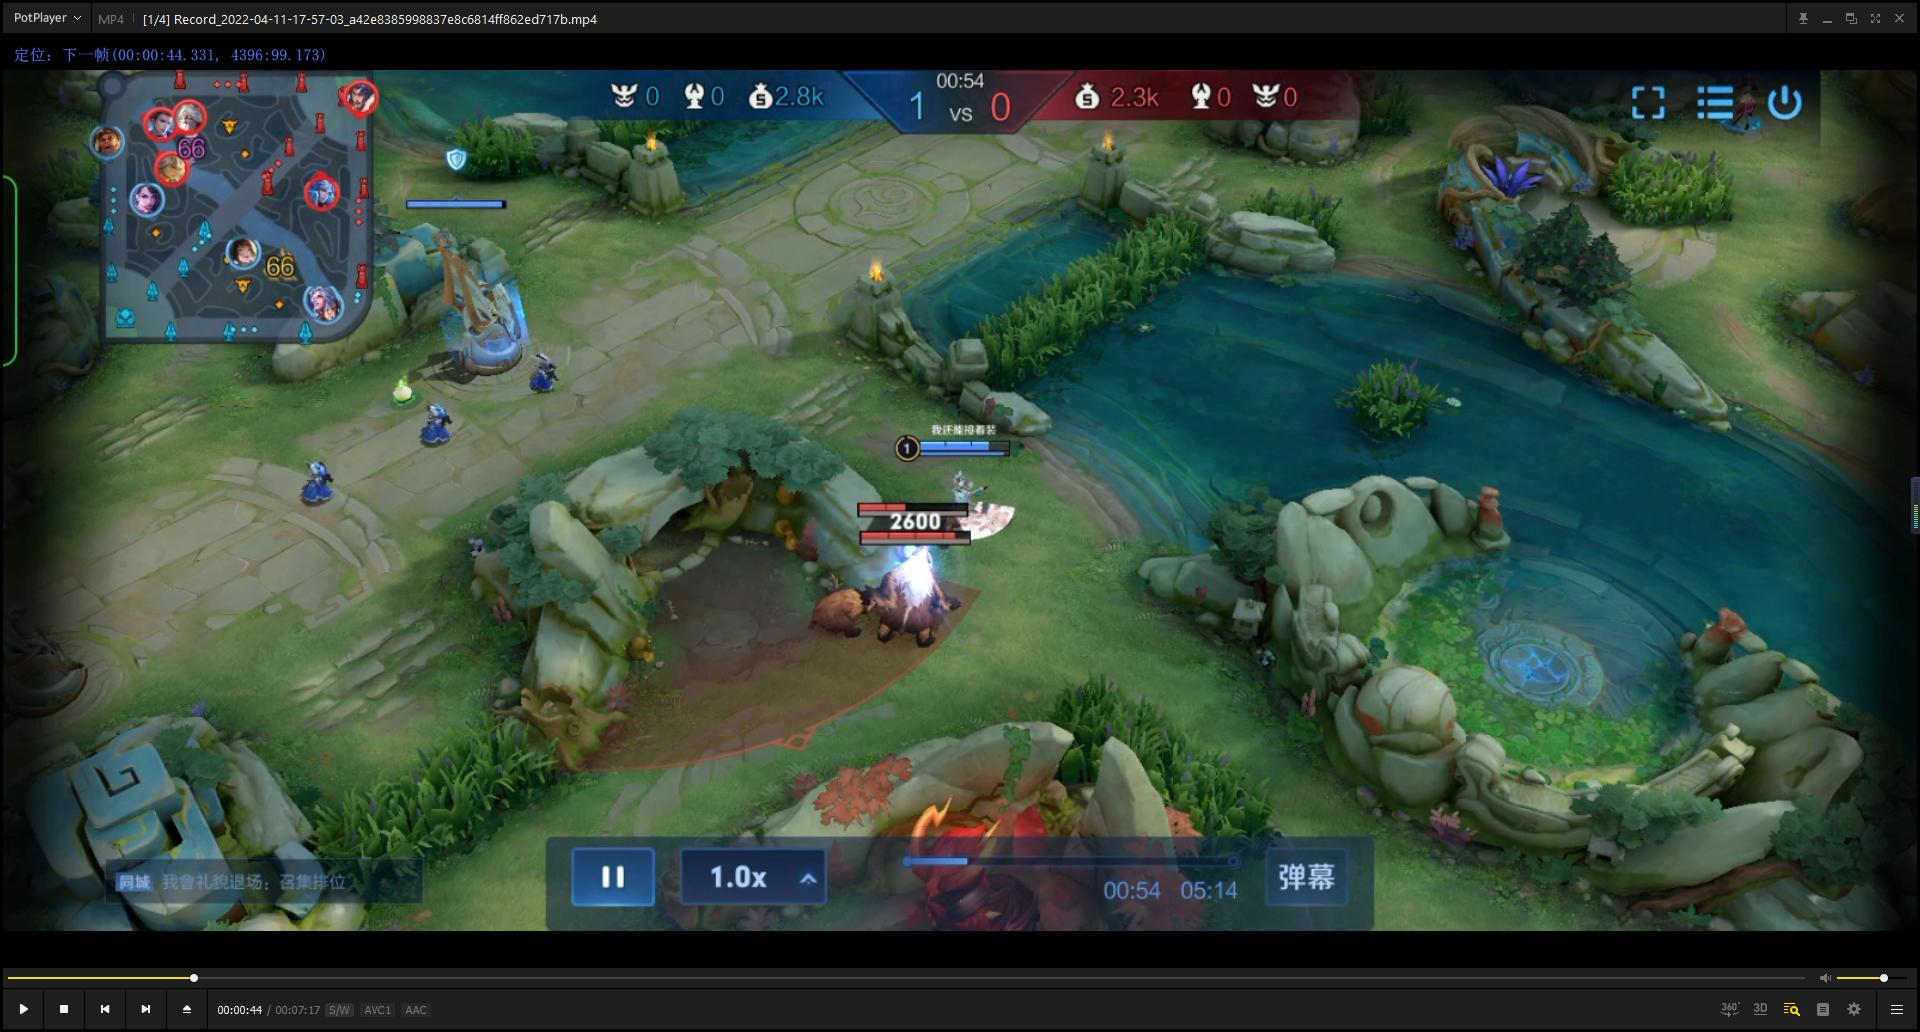Buff: (853, 782, 1037, 927)
Hero: (924, 466, 1050, 555)
Pig: (855, 536, 972, 657), (797, 559, 884, 670)
Solider: (291, 444, 363, 534), (518, 344, 597, 421), (391, 395, 468, 458)
Tower: (403, 189, 531, 398)
